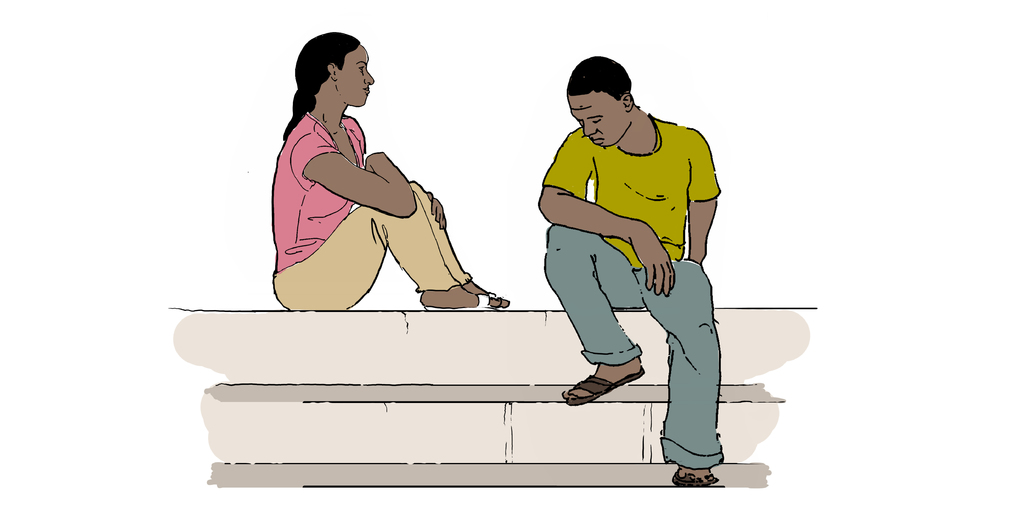Footwear: (573, 350, 637, 417)
